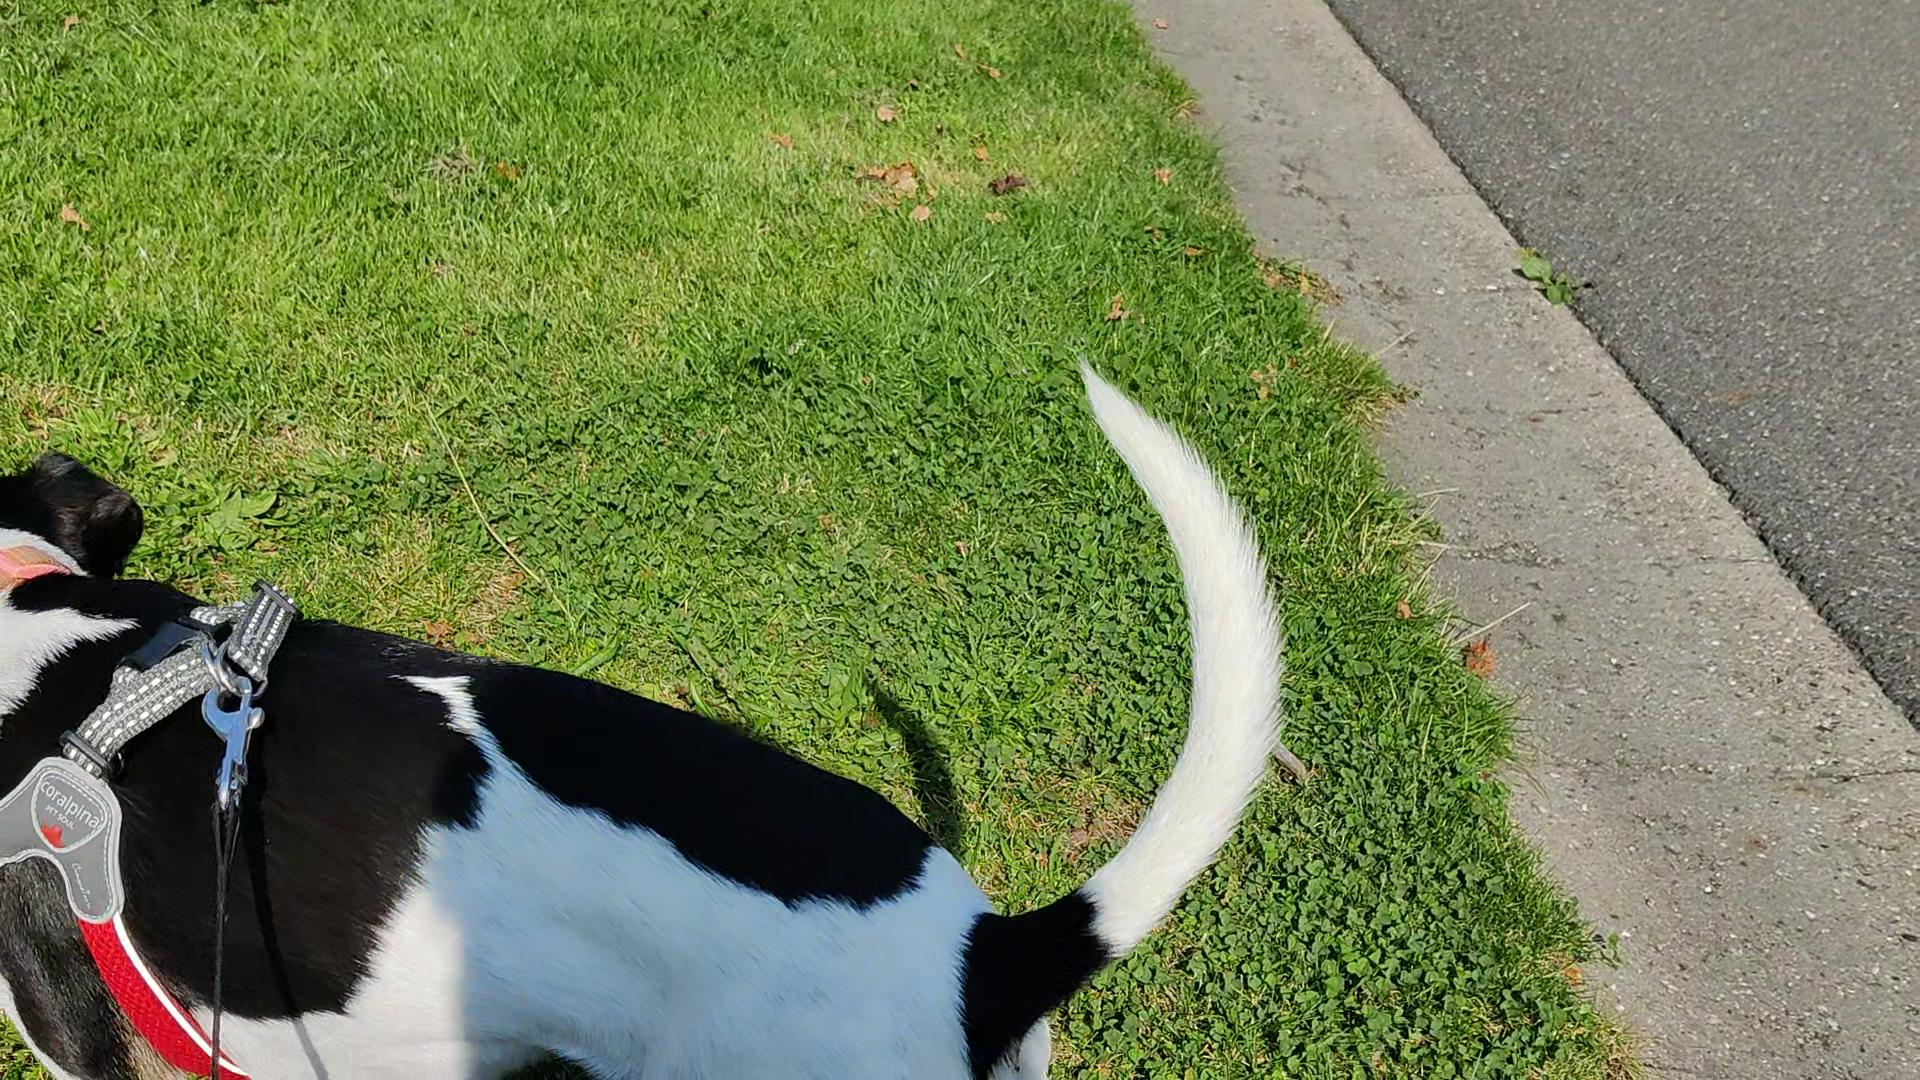Dog: (0, 326, 1309, 1079)
